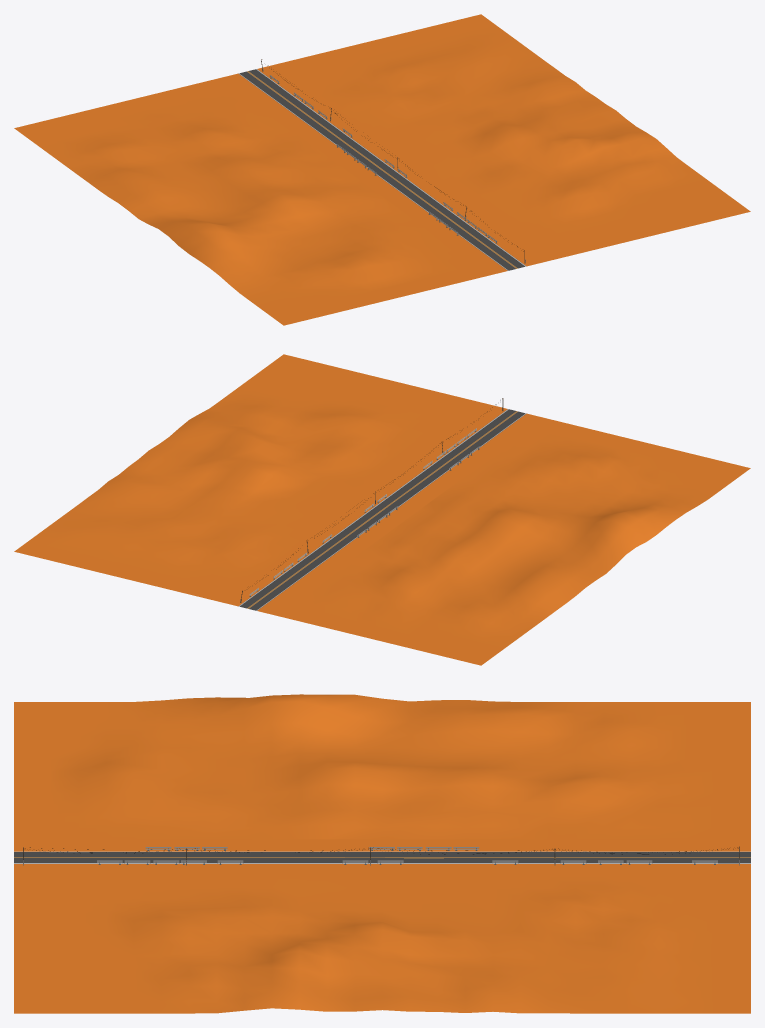
File: TileDesert4_1.fbx
The picture shows the model from 3 angles, top to bottom: view 1: azimuth 30°, elevation 25°; view 2: azimuth 150°, elevation 25°; view 3: azimuth 270°, elevation 25°; orthographic projection. The views are drawn at different scales.
Visible parts, largest first — view 1: Plane.003, Road; view 2: Plane.003, Road; view 3: Plane.003, Road.
Boxes of the visible parts, <box> form: Plane.003: <box>14,14,750,325</box>; Road: <box>238,69,526,270</box>; Plane.003: <box>14,354,750,665</box>; Road: <box>238,409,526,610</box>; Plane.003: <box>14,694,750,1013</box>; Road: <box>14,851,750,863</box>.
Bounding box in the file's own units: 20015 × 703 × 20000.
